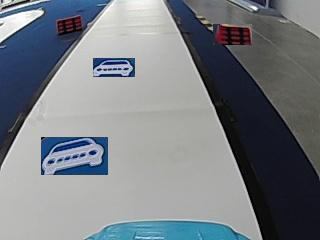bomb: (56, 14, 82, 33)
